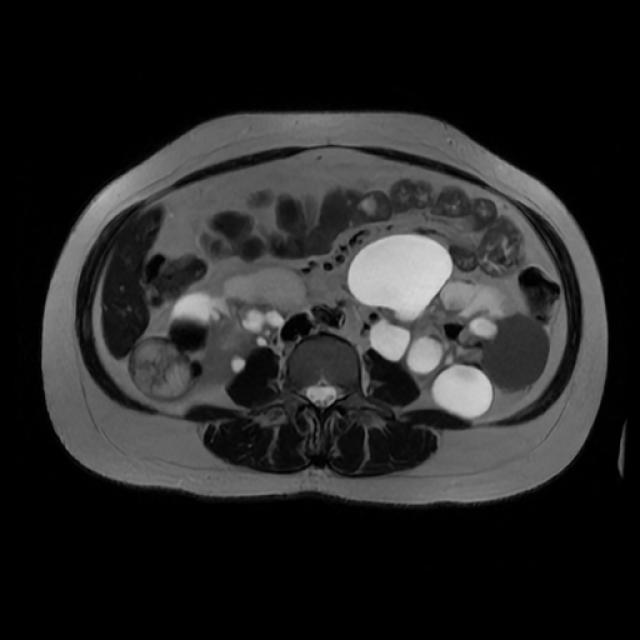sag: (127, 263, 308, 405)
sol: (344, 234, 555, 420)
